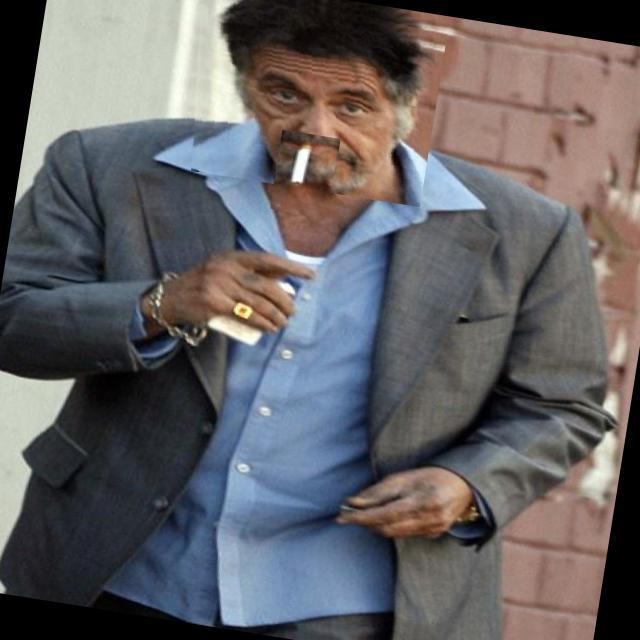cigarette: (270, 130, 340, 218)
